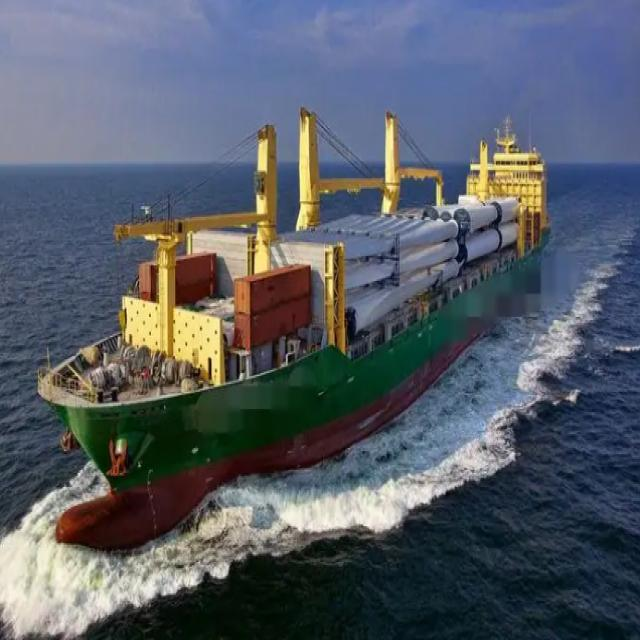cargoship: (40, 105, 556, 536)
